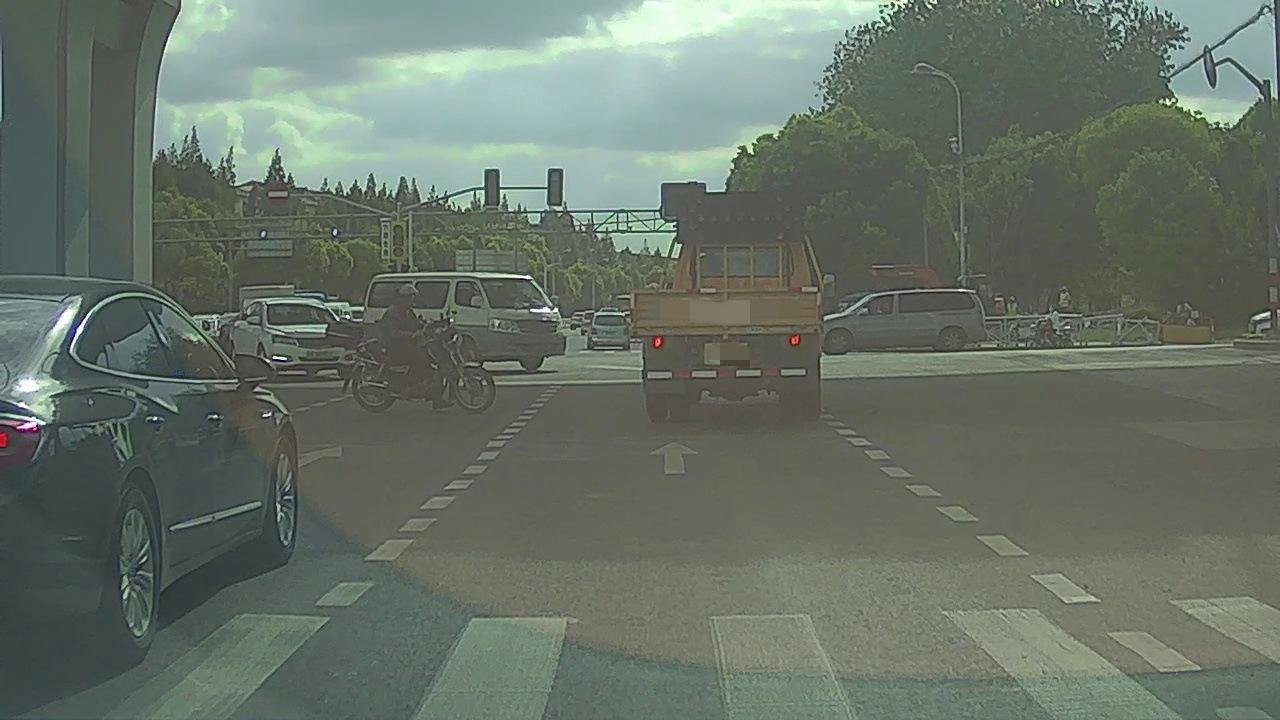traffic_light: (485, 171, 500, 205), (549, 167, 562, 205)
